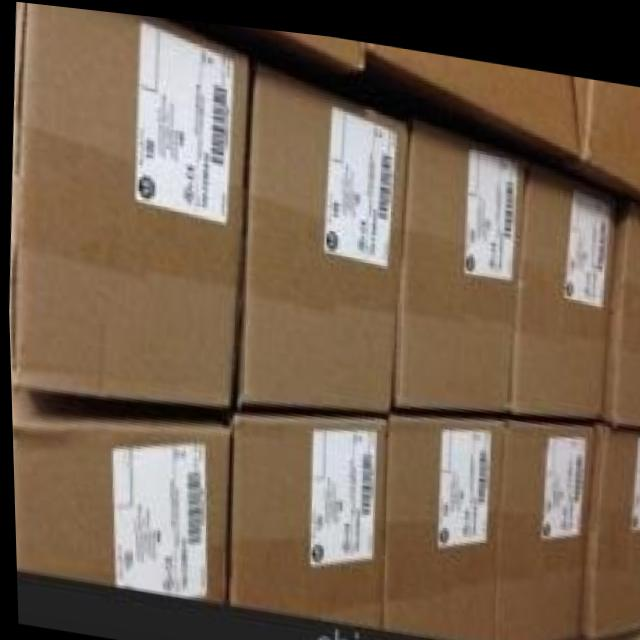box: (9, 2, 250, 404), (230, 58, 408, 407), (9, 388, 230, 600), (391, 112, 527, 402), (222, 407, 386, 620), (380, 407, 502, 635), (509, 147, 614, 407), (366, 34, 578, 148), (491, 407, 592, 640), (579, 412, 640, 629), (601, 179, 640, 415), (574, 63, 640, 183), (7, 1, 27, 388), (283, 25, 364, 63)
